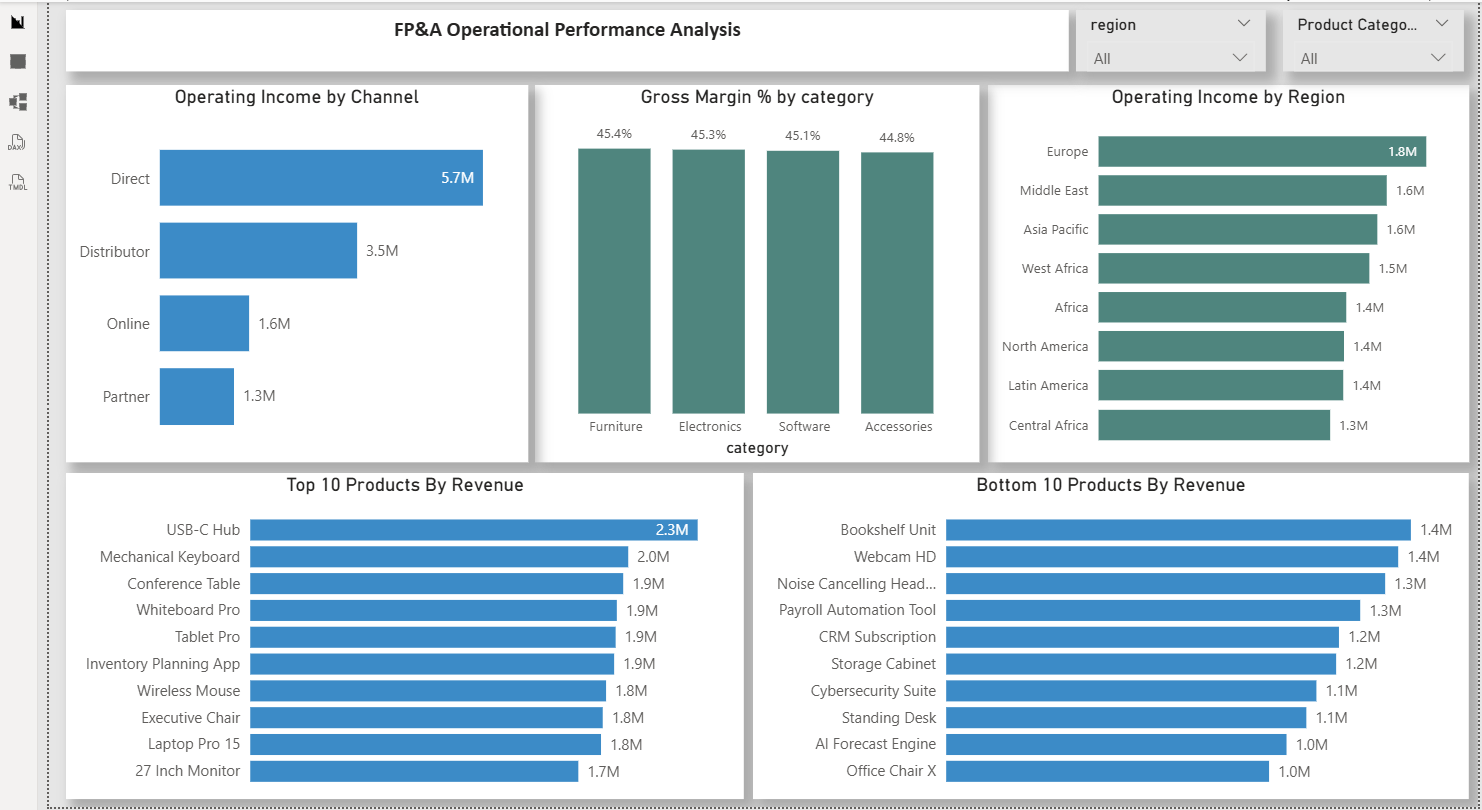

The page's visual inventory and layout, read from the dashboard file:
{"tool":"powerbi","page":{"name":"Operational Analysis","canvas":[1280,720],"ordinal":1},"visuals":[{"type":"clusteredBarChart","title":"Operating Income by Region","fields":{"Category":["dim_region.region_name"],"Y":["vw_profitability_kpis.Operating Income"]},"box":[840.9,74.3,430.9,336.8],"z":0},{"type":"textbox","box":[15,7,897.9,54.9],"z":1000},{"type":"clusteredColumnChart","fields":{"Category":["dim_product.category"],"Y":["vw_profitability_kpis.Gross Margin %"]},"box":[435.6,74.3,398.4,336.8],"z":2000},{"type":"clusteredBarChart","title":"Operating Income by Channel","fields":{"Y":["vw_profitability_kpis.Operating Income"],"Category":["dim_region.sales_channel"]},"box":[15.1,74.3,413.5,336.8],"z":3000},{"type":"clusteredBarChart","title":"Top 10 Products By Revenue","fields":{"Category":["dim_product.product_name"],"Y":["vw_profitability_kpis.Total Revenue"]},"box":[15.1,420.5,607.5,291.5],"z":4000},{"type":"clusteredBarChart","title":"Bottom 10 Products By Revenue","fields":{"Category":["dim_product.product_name"],"Y":["vw_profitability_kpis.Total Revenue"]},"box":[630.7,420.5,641.2,291.5],"z":5000},{"type":"slicer","title":"Region","fields":{"Values":["dim_region.region_name"]},"box":[919.8,7,169.6,54.9],"z":6000},{"type":"slicer","title":"Product Category","fields":{"Values":["dim_product.category"]},"box":[1105.4,7,161.6,54.9],"z":7000}]}

Visuals, with their boxes on the page's 1280x720 design canvas (x1, y1, x2, y2). These are canvas units, not pixel positions in the 1482x810 screenshot, which may show the page scaled, cropped or inside an application window:
"Operating Income by Region" clusteredBarChart: <box>841,74,1272,411</box>
textbox: <box>15,7,913,62</box>
clusteredColumnChart - dim_product.category x vw_profitability_kpis.Gross Margin %: <box>436,74,834,411</box>
"Operating Income by Channel" clusteredBarChart: <box>15,74,429,411</box>
"Top 10 Products By Revenue" clusteredBarChart: <box>15,420,623,712</box>
"Bottom 10 Products By Revenue" clusteredBarChart: <box>631,420,1272,712</box>
"Region" slicer: <box>920,7,1089,62</box>
"Product Category" slicer: <box>1105,7,1267,62</box>
